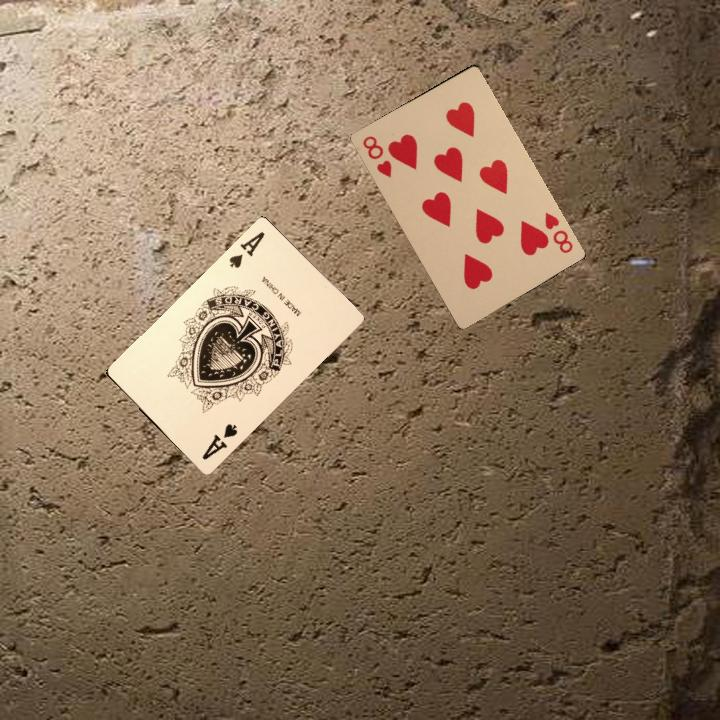8h: (540, 209, 576, 256), (359, 132, 394, 180)
As: (225, 227, 267, 271), (198, 420, 240, 463)
